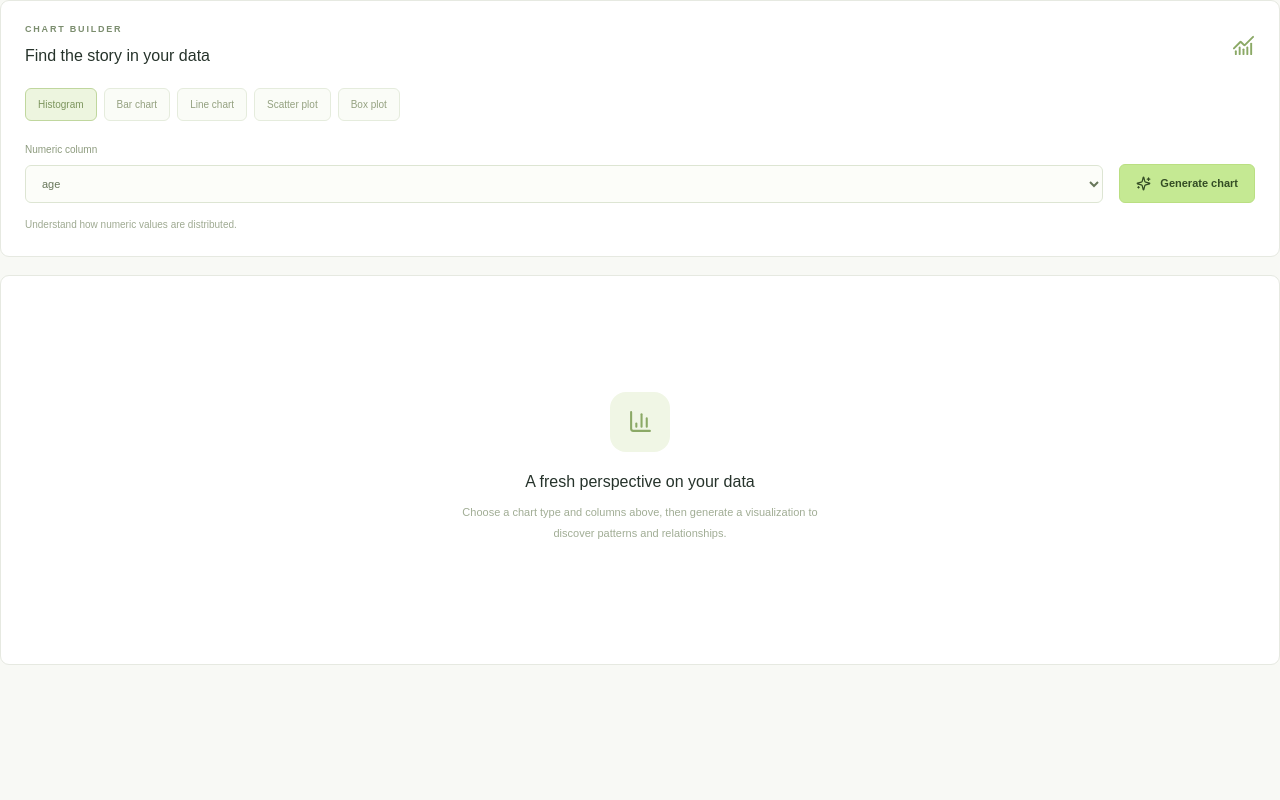
Test: ChartPanel › uses category counts as the default bar measure
Click the button "Bar chart" at coordinates (137, 104), box [104,88,170,120]
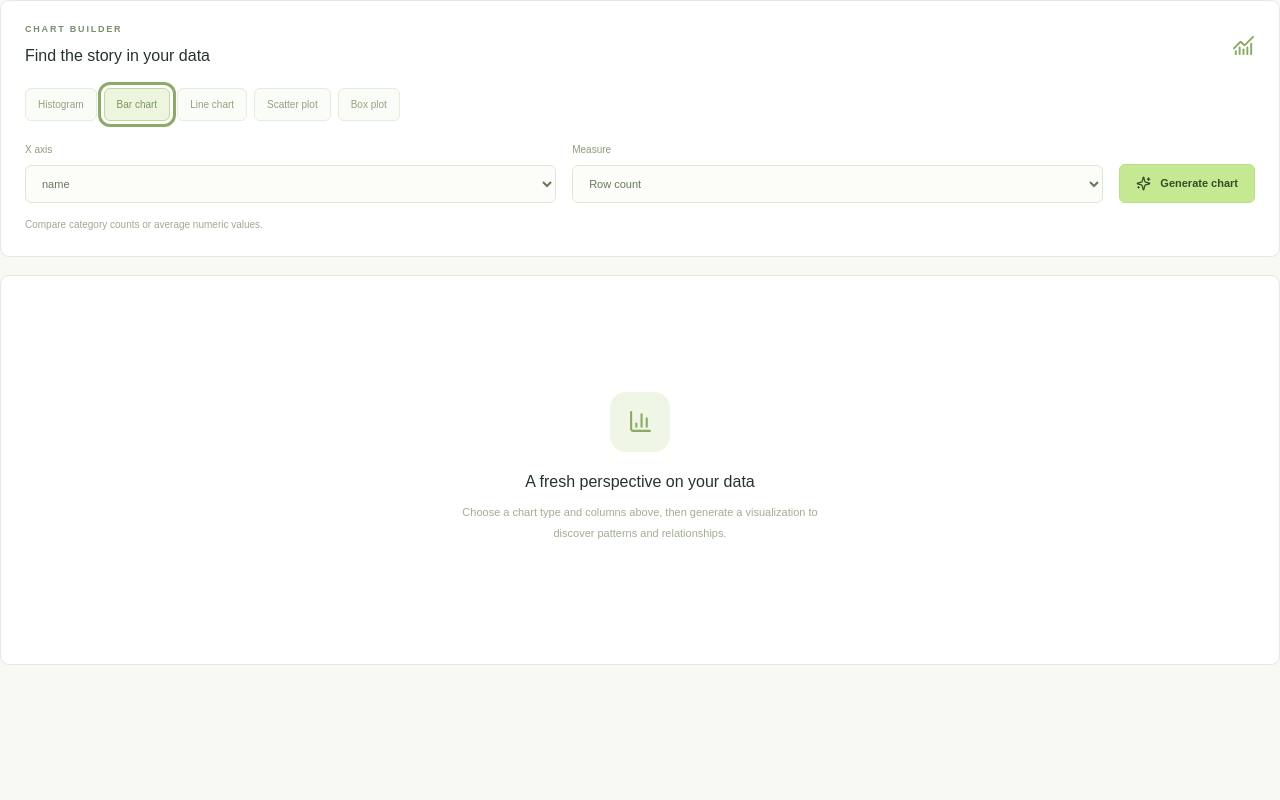
Now the dropdown named "Chart X column" shows "name", box [25,164,556,202]
Now the dropdown named "Chart Y column" shows "Row count", box [572,164,1103,202]
Click the button "Generate chart" at coordinates (1187, 183), box [1119,164,1255,202]
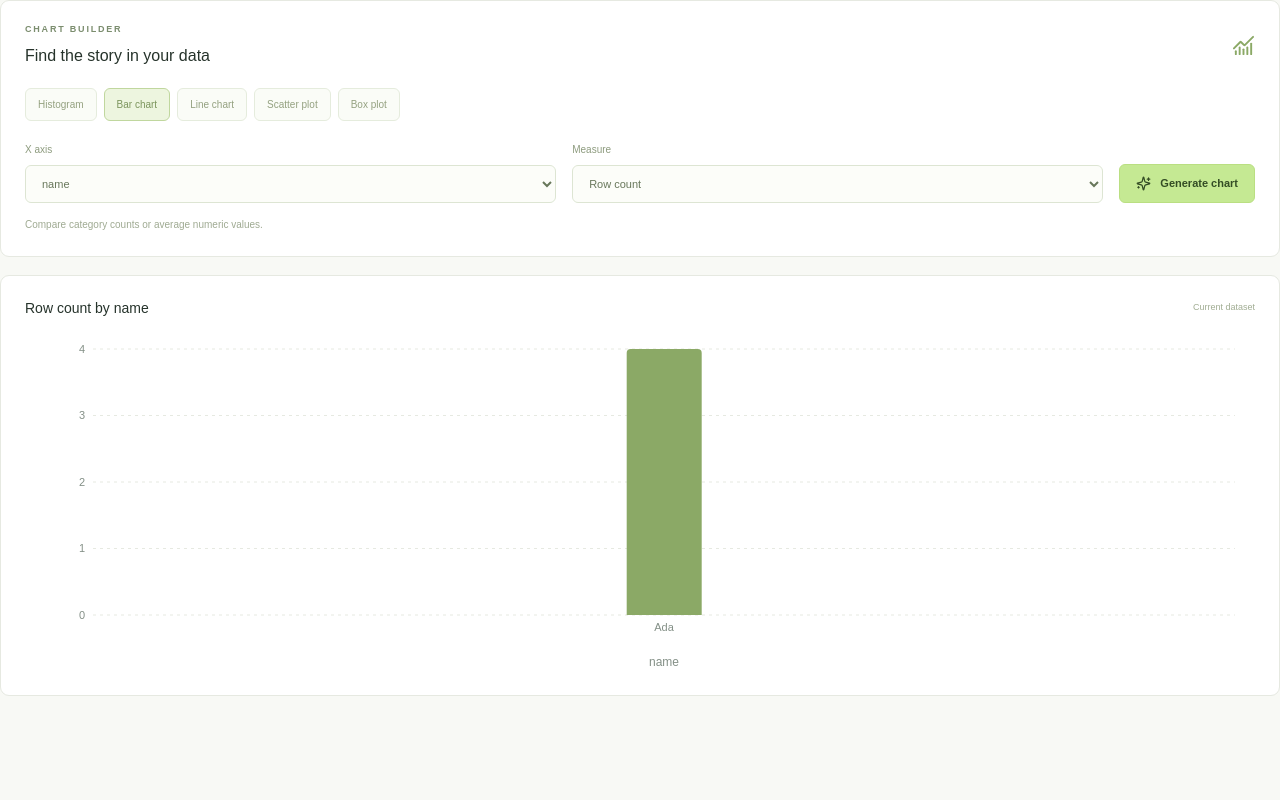
Now the heading "Row count by name" is shown, box [25,298,149,318]
